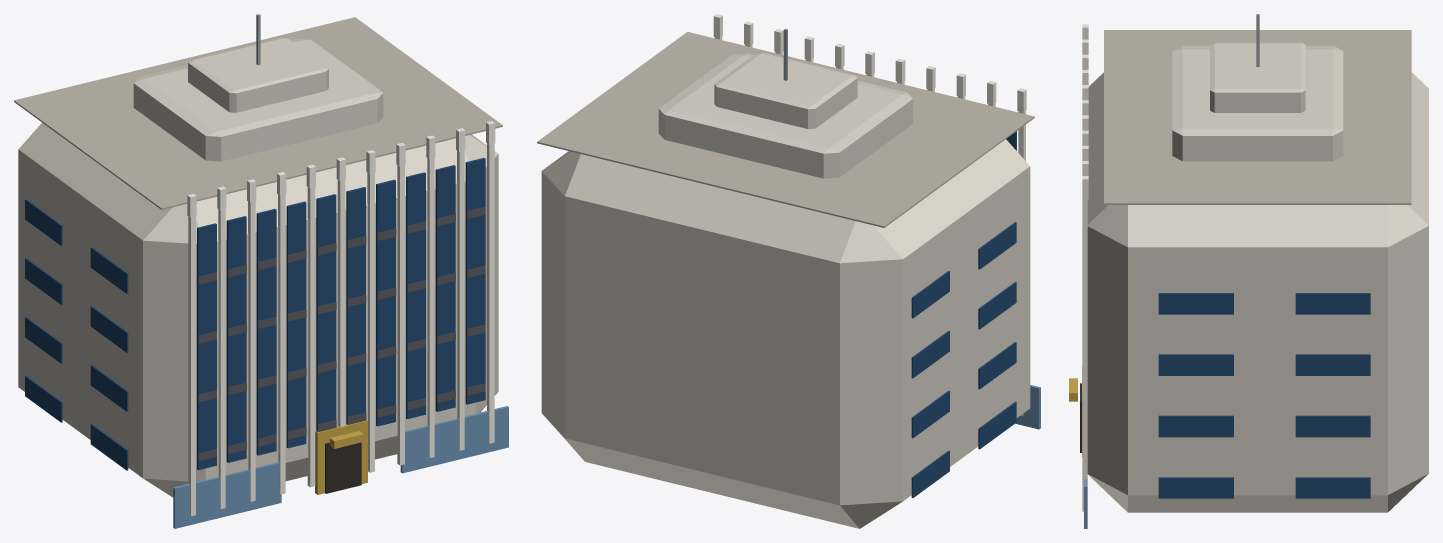
The model's file is office_f5_grid_w24.glb.
3 views of the same model, side by side, from view 1: azimuth 30°, elevation 25°; view 2: azimuth 150°, elevation 25°; view 3: azimuth 270°, elevation 25° (orthographic). The views are drawn at different scales.
Visible parts, largest first — view 1: walls, roofslab, crown1, crown2, chan.001, chan.002, chan.009, chan.003, chan.008, chan.004, chan, chan.006 (+25 smaller); view 2: walls, roofslab, crown1, crown2, sb.006, sb.012, sb.002, sb.004, sb.008, sb, sb.010, sb.014 (+1 smaller); view 3: walls, roofslab, crown1, crown2, sb.005, sb.007, pier.010, sb.001, sb.003, sb.009, sb.011, sb.013 (+1 smaller).
Boxes of the visible parts, bbox=[...] form: walls: bbox=[18, 122, 498, 497]; roofslab: bbox=[14, 17, 502, 209]; crown1: bbox=[133, 38, 383, 161]; crown2: bbox=[188, 38, 328, 112]; chan.001: bbox=[226, 216, 246, 462]; chan.002: bbox=[256, 209, 276, 455]; chan.009: bbox=[465, 158, 485, 404]; chan.003: bbox=[286, 201, 306, 448]; chan.008: bbox=[435, 165, 455, 411]; chan.004: bbox=[316, 194, 336, 431]; chan: bbox=[197, 223, 216, 469]; chan.006: bbox=[376, 179, 395, 426]; walls: bbox=[541, 139, 1030, 528]; roofslab: bbox=[537, 32, 1034, 227]; crown1: bbox=[658, 53, 912, 178]; crown2: bbox=[714, 52, 857, 128]; sb.006: bbox=[911, 390, 949, 438]; sb.012: bbox=[978, 222, 1016, 269]; sb.002: bbox=[911, 450, 949, 497]; sb.004: bbox=[978, 342, 1016, 389]; sb.008: bbox=[978, 282, 1016, 329]; sb: bbox=[978, 401, 1016, 449]; sb.010: bbox=[911, 331, 949, 378]; sb.014: bbox=[911, 271, 949, 318]; walls: bbox=[1087, 72, 1428, 512]; roofslab: bbox=[1104, 30, 1411, 204]; crown1: bbox=[1172, 45, 1343, 161]; crown2: bbox=[1210, 42, 1305, 112]; sb.005: bbox=[1158, 415, 1233, 437]; sb.007: bbox=[1295, 415, 1370, 437]; pier.010: bbox=[1082, 200, 1087, 511]; sb.001: bbox=[1158, 477, 1233, 498]; sb.003: bbox=[1295, 477, 1370, 498]; sb.009: bbox=[1158, 354, 1233, 375]; sb.011: bbox=[1295, 354, 1370, 375]; sb.013: bbox=[1158, 293, 1233, 314].
Bounding box in the file's own units: 24.2 × 26.6 × 20.2.
